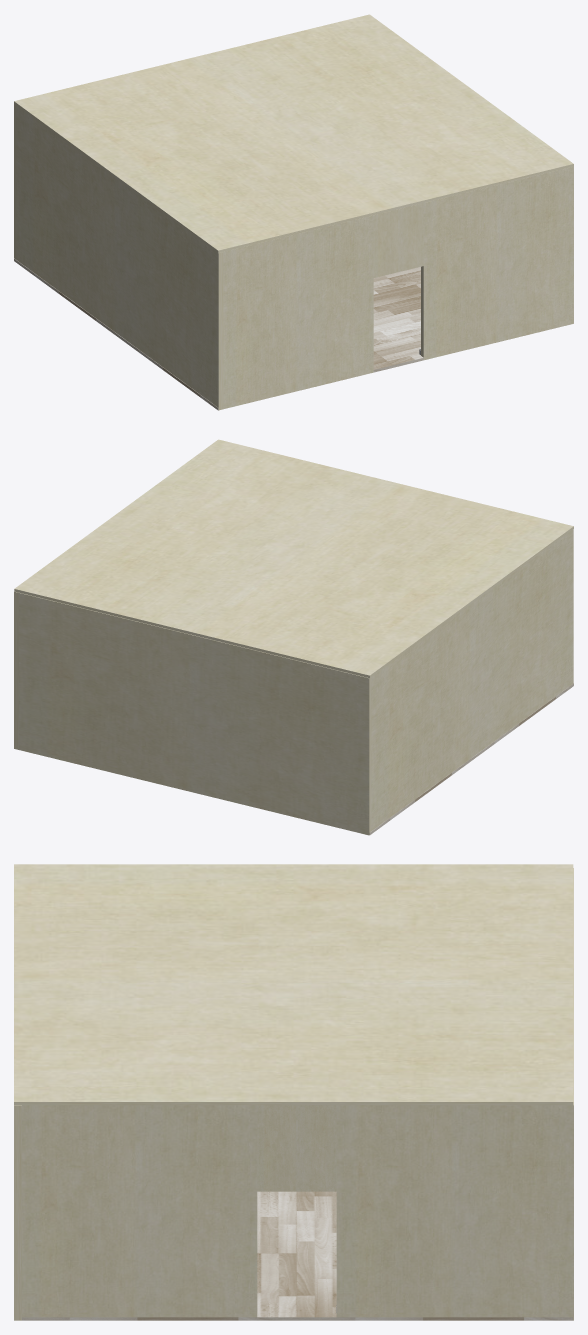
File: livingroomtx.dae
The picture shows the model from 3 angles, top to bottom: view 1: azimuth 30°, elevation 25°; view 2: azimuth 150°, elevation 25°; view 3: azimuth 270°, elevation 25°; orthographic projection. The views are drawn at different scales.
Parts seen in each view (by area): view 1: Box012, Box005, Box013, Box011; view 2: Box012, Box004, Box013, Box001, Box011; view 3: Box012, Box001, Box011, Box005.
Boxes of the visible parts, x1,y1,x2,y2 form: Box012: [14, 14, 573, 253]; Box005: [223, 166, 573, 408]; Box013: [16, 106, 223, 410]; Box011: [14, 258, 423, 410]; Box012: [14, 439, 573, 678]; Box004: [19, 592, 371, 835]; Box013: [371, 529, 573, 830]; Box001: [14, 591, 18, 749]; Box011: [369, 683, 573, 834]; Box012: [14, 864, 573, 1105]; Box001: [22, 1102, 573, 1320]; Box011: [22, 1191, 572, 1320]; Box005: [14, 1105, 21, 1320].
Size of the model in its own units: 280 by 279 by 120.
